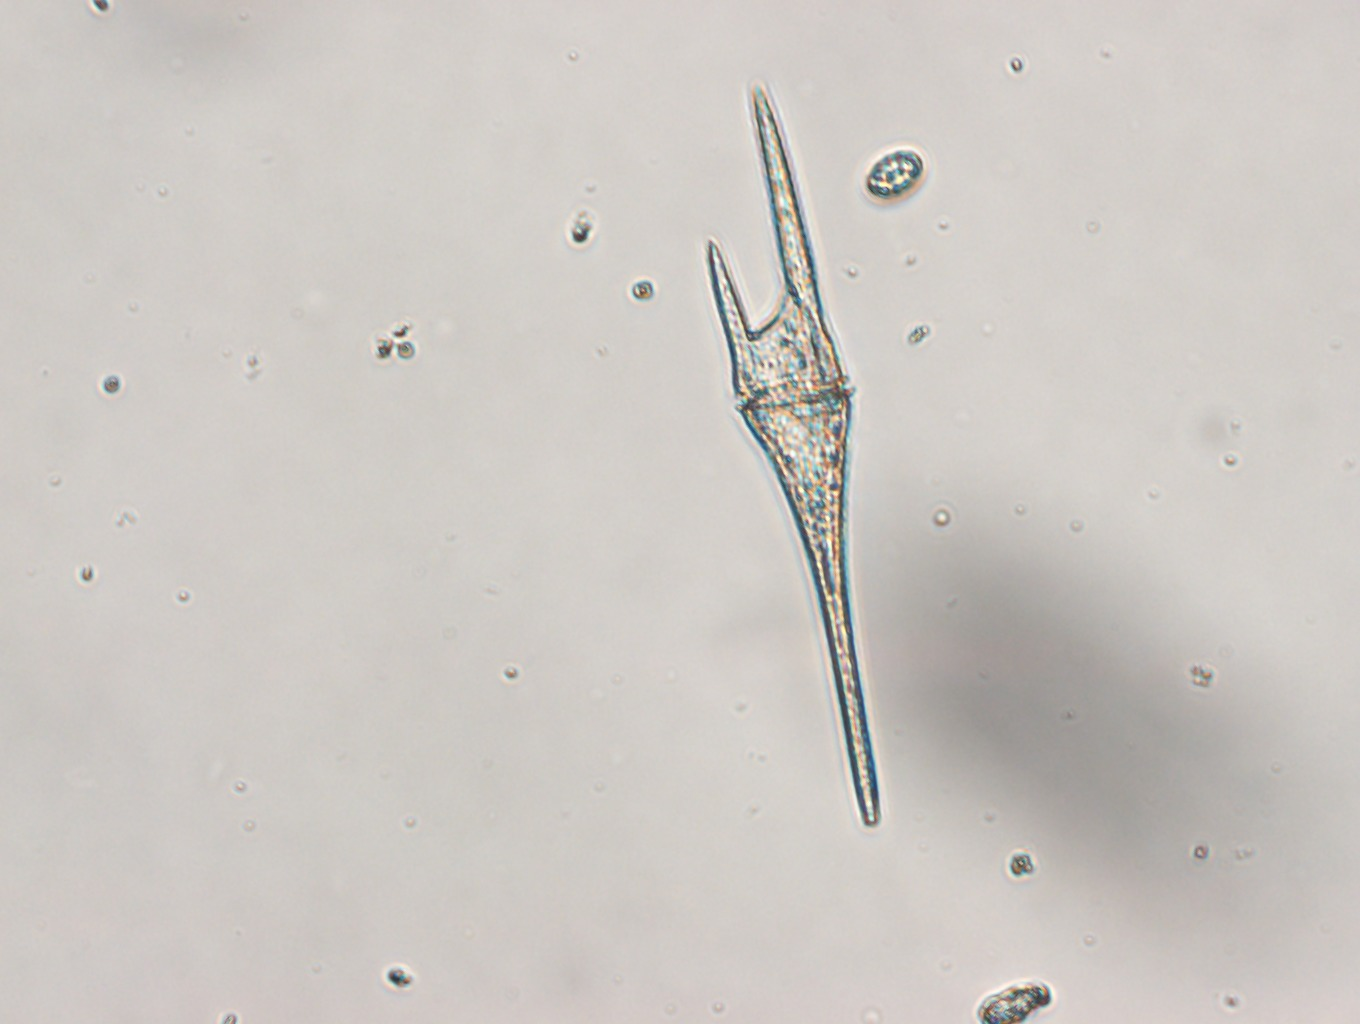ceratium furca: (700, 76, 888, 837)
